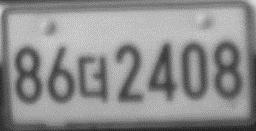0: (180, 42, 210, 101)
2: (113, 44, 144, 102)
4: (147, 41, 179, 99)
6: (45, 45, 76, 102)
8: (13, 44, 43, 104), (213, 39, 243, 99)
더: (77, 54, 110, 101)
